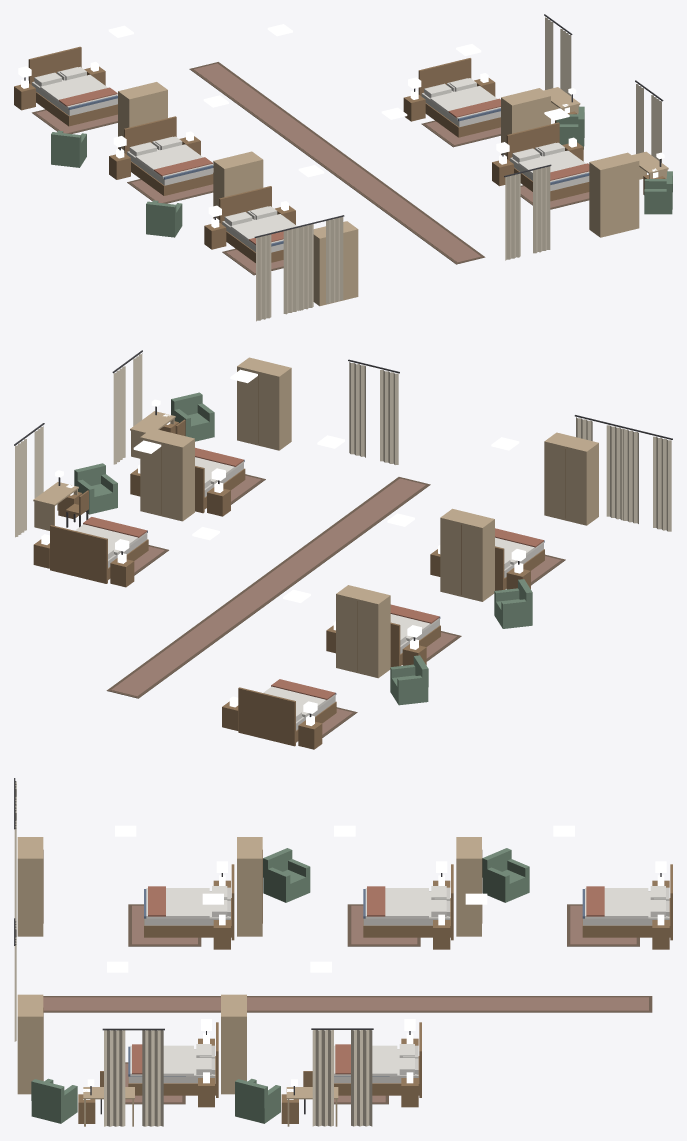
File: fine-s1.glb
3 renders of one model, top to bottom at view 1: azimuth 30°, elevation 25°; view 2: azimuth 150°, elevation 25°; view 3: azimuth 270°, elevation 25°, orthographic. The views are drawn at different scales.
Parts seen in each view (by area): view 1: soft-s1, dresser.001, bed-frame.002, bed-frame.003, bed-frame.000, bed-frame.001, dresser.004, dresser.003, dresser.002, bed-frame.004, dresser.000, lounge-chair.003 (+10 smaller); view 2: soft-s1, dresser.004, dresser.003, dresser.002, dresser.001, dresser.000, bed-frame.000, bed-frame.002, lounge-chair.002, lounge-chair.000, lounge-chair.003, lounge-chair.001 (+8 smaller); view 3: soft-s1, dresser.004, dresser.003, dresser.001, dresser.002, dresser.000, lounge-chair.003, lounge-chair.002, bed-frame.004, bed-frame.003, bed-frame.002, lounge-chair.001 (+10 smaller).
Part boxes in pixels (box(x1,y1,x2,y2)): soft-s1: box(18, 14, 663, 321); dresser.001: box(589, 152, 639, 237); bed-frame.002: box(28, 46, 117, 126); bed-frame.003: box(124, 116, 213, 195); bed-frame.000: box(418, 58, 500, 137); bed-frame.001: box(506, 122, 589, 201); dresser.004: box(313, 221, 358, 306); dresser.003: box(213, 151, 263, 219); dresser.002: box(118, 82, 167, 149); bed-frame.004: box(219, 186, 283, 262); dresser.000: box(501, 88, 550, 155); lounge-chair.003: box(146, 200, 182, 237); soft-s1: box(14, 350, 672, 737); dresser.004: box(544, 432, 598, 525); dresser.003: box(440, 508, 494, 601); dresser.002: box(336, 585, 390, 678); dresser.001: box(237, 357, 291, 450); dresser.000: box(140, 428, 194, 521); bed-frame.000: box(50, 525, 148, 583); bed-frame.002: box(238, 687, 336, 746); lounge-chair.002: box(390, 655, 428, 705); lounge-chair.000: box(74, 463, 117, 514); lounge-chair.003: box(494, 579, 532, 628); lounge-chair.001: box(171, 392, 214, 441); soft-s1: box(14, 778, 667, 1126); dresser.004: box(17, 837, 43, 936); dresser.003: box(237, 837, 262, 936); dresser.001: box(17, 994, 43, 1094); dresser.002: box(456, 837, 482, 936); dresser.000: box(221, 994, 246, 1094); lounge-chair.003: box(263, 848, 310, 902); lounge-chair.002: box(482, 848, 529, 902); bed-frame.004: box(144, 864, 234, 940); bed-frame.003: box(363, 864, 453, 940); bed-frame.002: box(582, 864, 672, 940); lounge-chair.001: box(31, 1078, 77, 1123).
Size of the model in its own units: 13.82 by 2.73 by 15.33.
